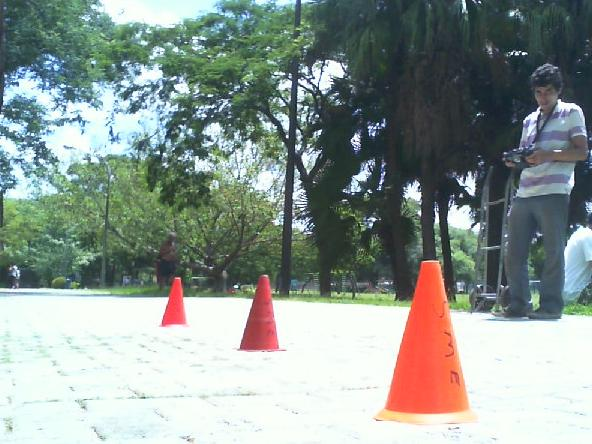0 cone: (373, 259, 477, 425), (237, 274, 286, 352), (159, 277, 189, 328)
